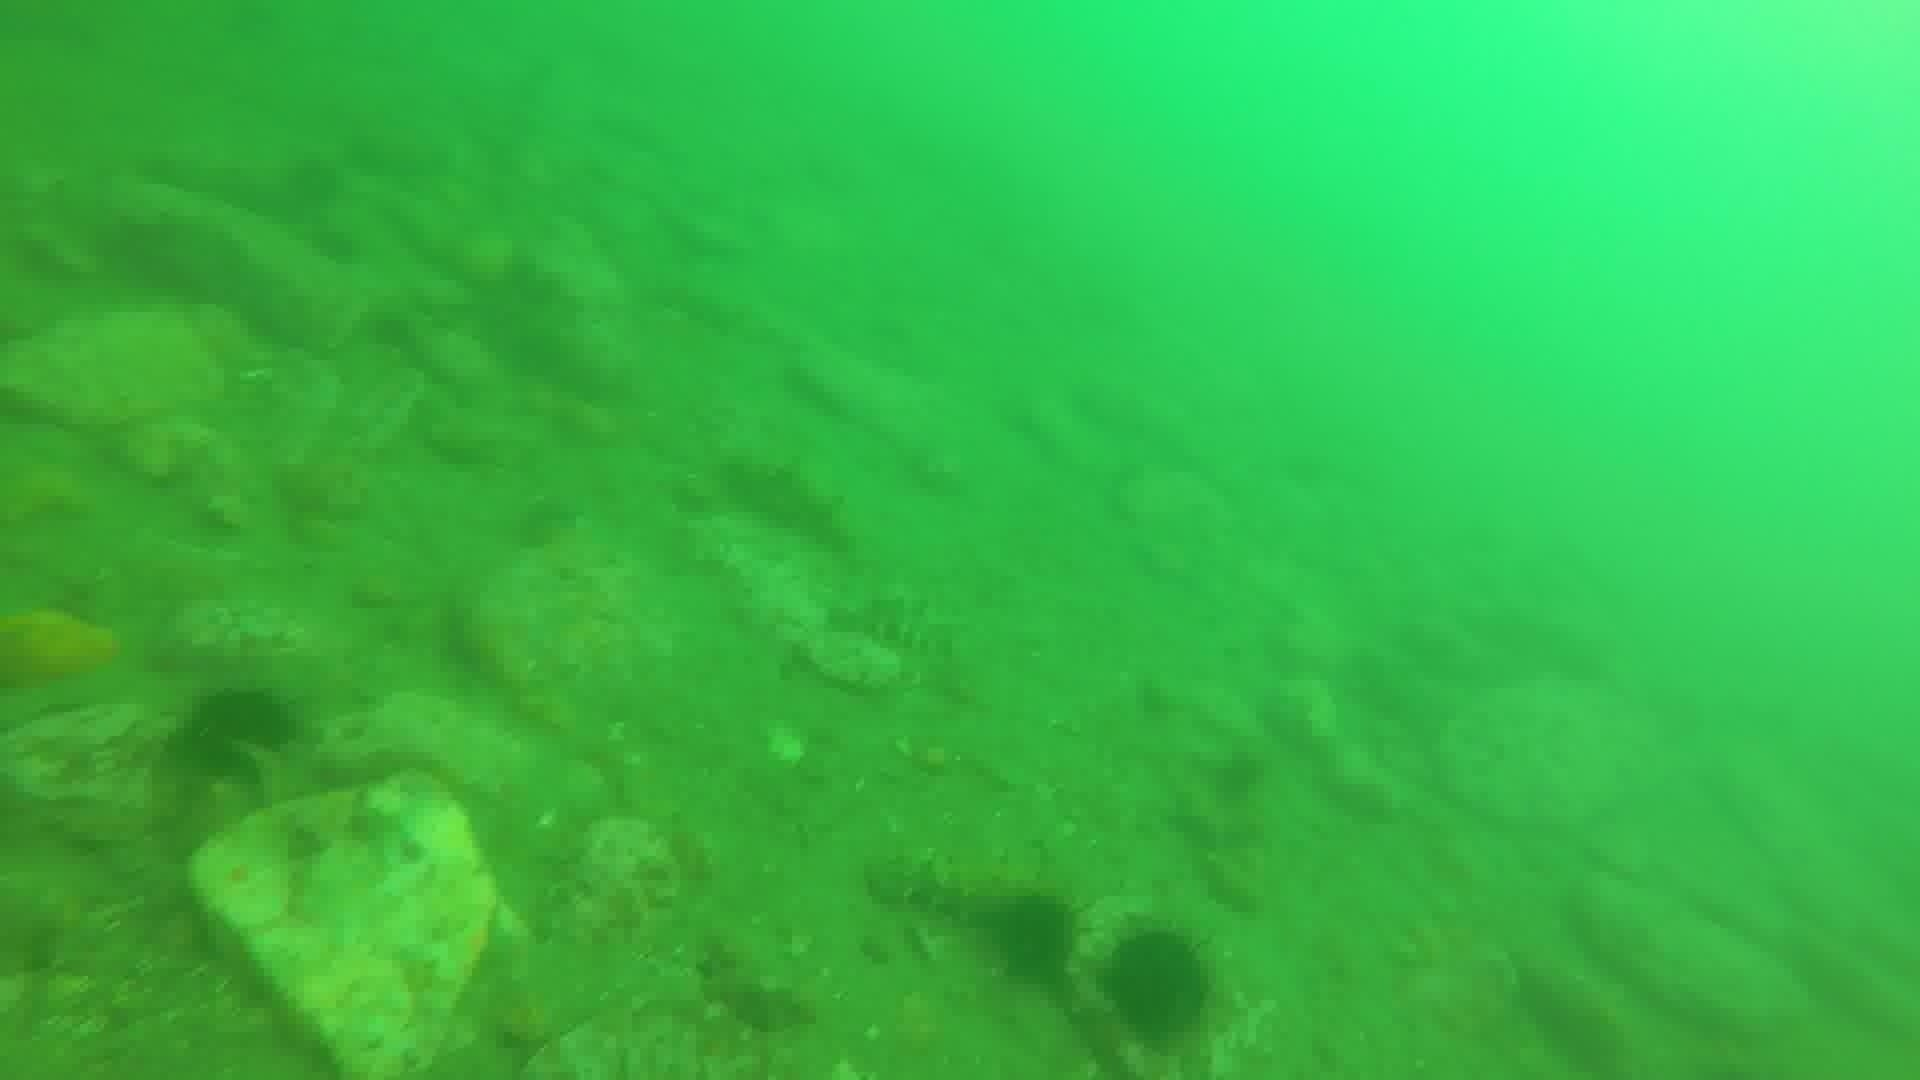echinus: (1096, 922, 1218, 1048), (174, 680, 299, 779), (982, 887, 1083, 985)
holothurian: (716, 443, 860, 556), (819, 582, 967, 658), (864, 848, 1002, 926)
